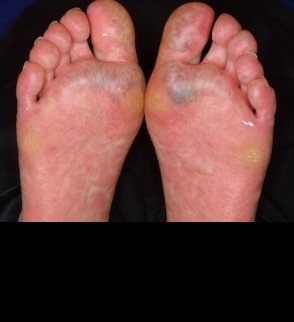SJS-TEN: (138, 0, 279, 227), (17, 0, 148, 224)
